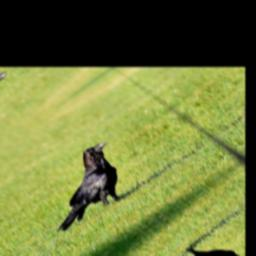Crow: (12, 137, 158, 239)
